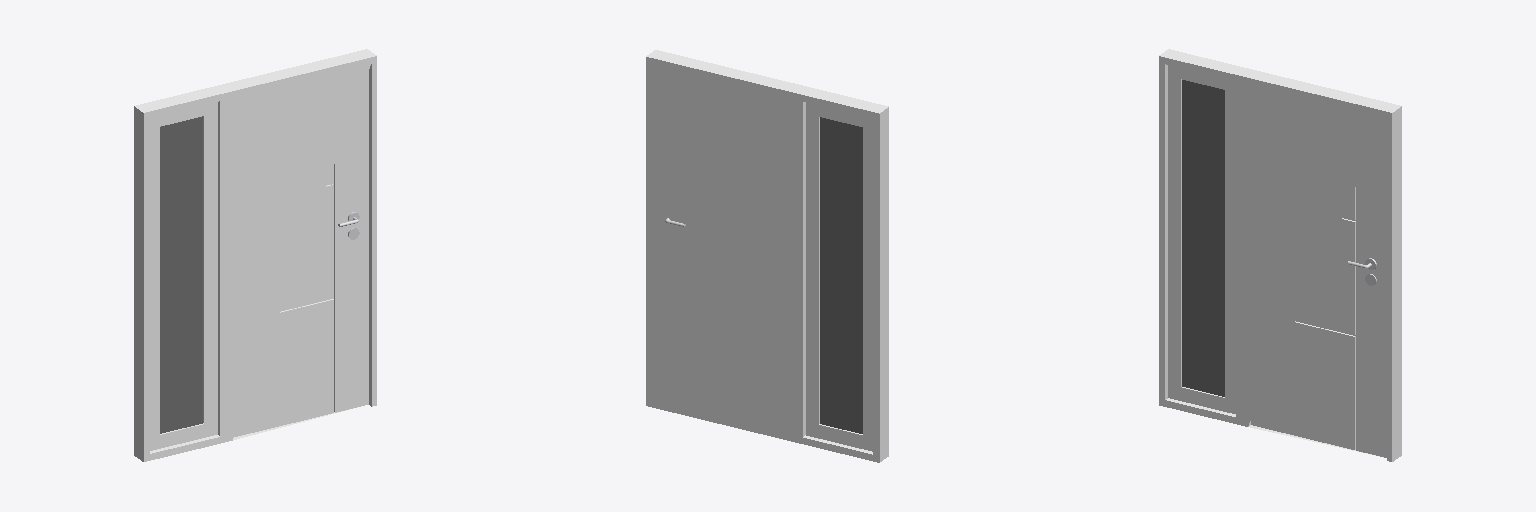
The model's file is door.obj.
3 renders of one model, left to right at view 1: azimuth 30°, elevation 25°; view 2: azimuth 150°, elevation 25°; view 3: azimuth 330°, elevation 25°, orthographic.
Visible parts, largest first — view 1: Mesh10 Group3 Group2 Group_26_1 Model, Mesh1 Group1 Model; view 2: Mesh10 Group3 Group2 Group_26_1 Model, Mesh1 Group1 Model; view 3: Mesh10 Group3 Group2 Group_26_1 Model, Mesh1 Group1 Model.
Boxes of the visible parts, <box> form: Mesh10 Group3 Group2 Group_26_1 Model: <box>218,49,376,441</box>; Mesh1 Group1 Model: <box>134,86,226,461</box>; Mesh10 Group3 Group2 Group_26_1 Model: <box>646,50,804,442</box>; Mesh1 Group1 Model: <box>796,86,888,462</box>; Mesh10 Group3 Group2 Group_26_1 Model: <box>1242,69,1401,461</box>; Mesh1 Group1 Model: <box>1159,49,1251,425</box>.
Size of the model in its own units: 55.12 by 78.74 by 6.77.